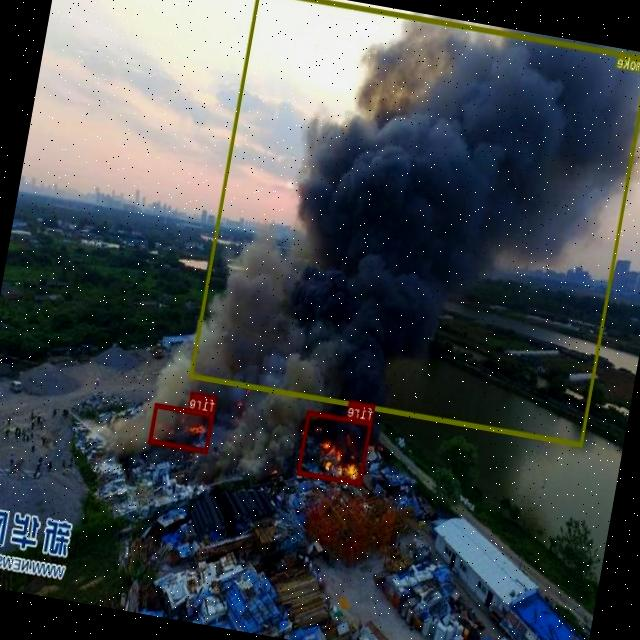fire: (297, 410, 372, 485), (149, 402, 215, 452)
smoke: (189, 0, 640, 446)
